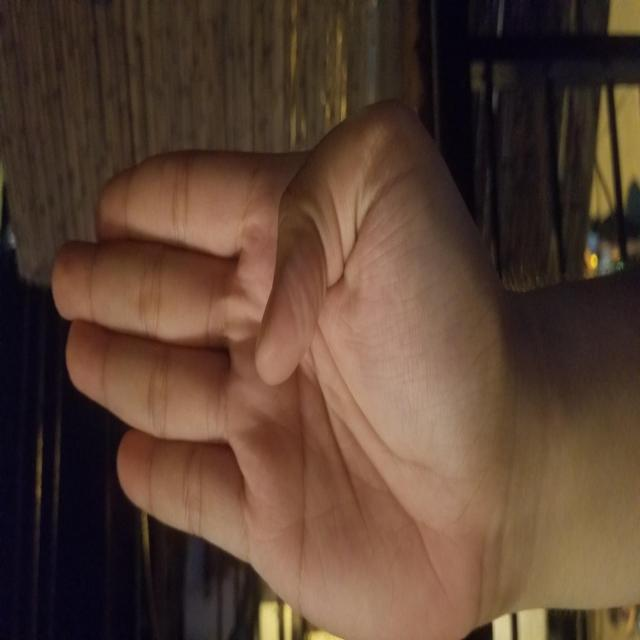B: (0, 47, 548, 509)
